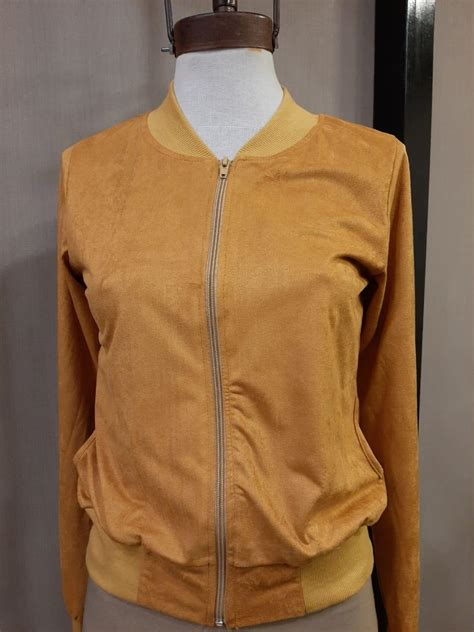gamuza: (53, 82, 419, 632)
